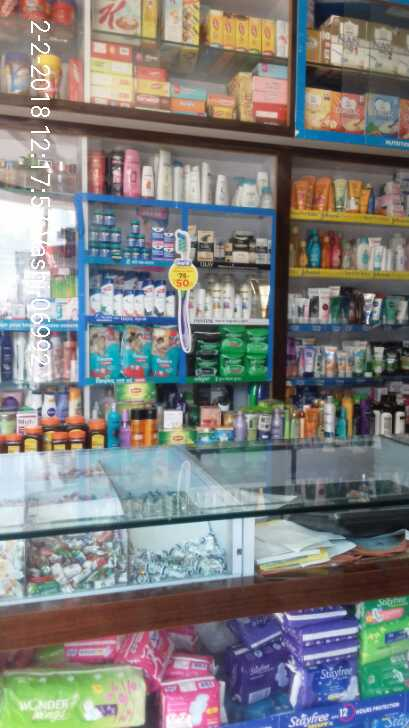beauty: (186, 215, 275, 263), (189, 267, 266, 316), (83, 274, 174, 315)
pharmacy: (88, 207, 178, 268), (187, 320, 270, 383), (121, 323, 153, 381), (151, 320, 180, 383), (93, 326, 120, 382)
